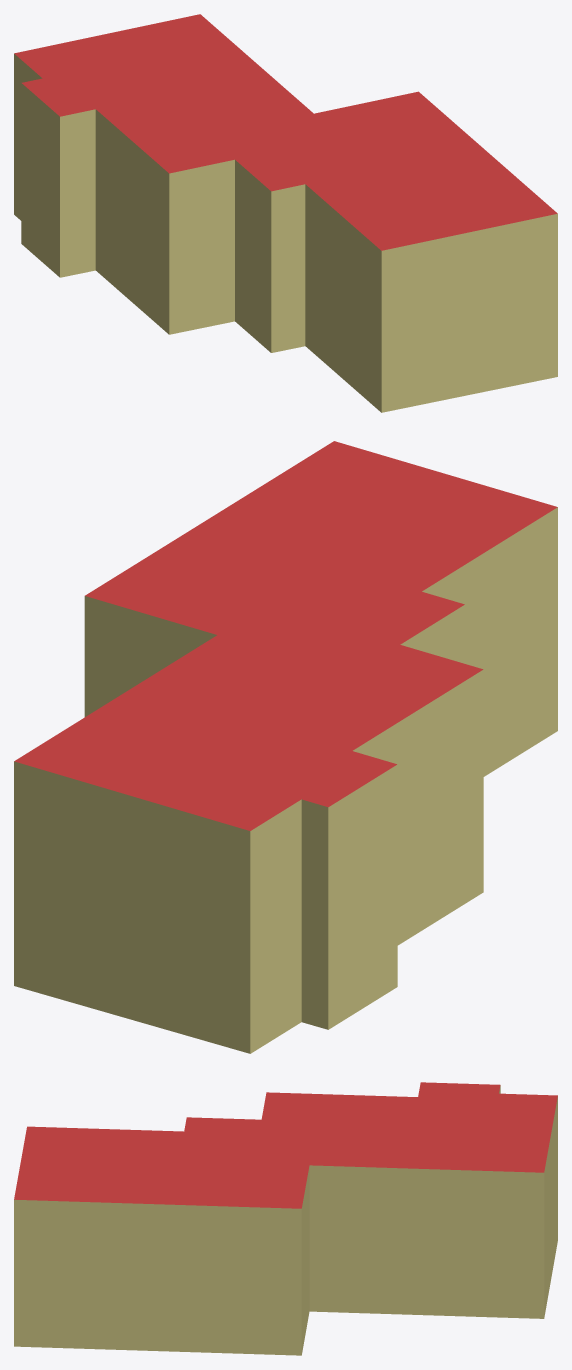
3 views of the same model, one above another, from view 1: azimuth 30°, elevation 25°; view 2: azimuth 150°, elevation 25°; view 3: azimuth 270°, elevation 25° (orthographic). The views are drawn at different scales.
Bounding box in the file's own units: 16.65 × 29.8 × 8.88.
